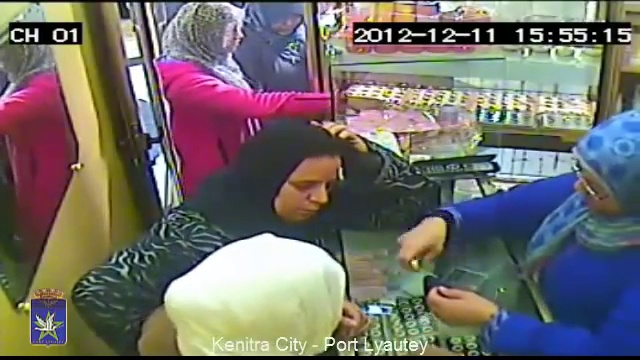face: (278, 160, 336, 221), (572, 162, 630, 221), (268, 11, 305, 36)
